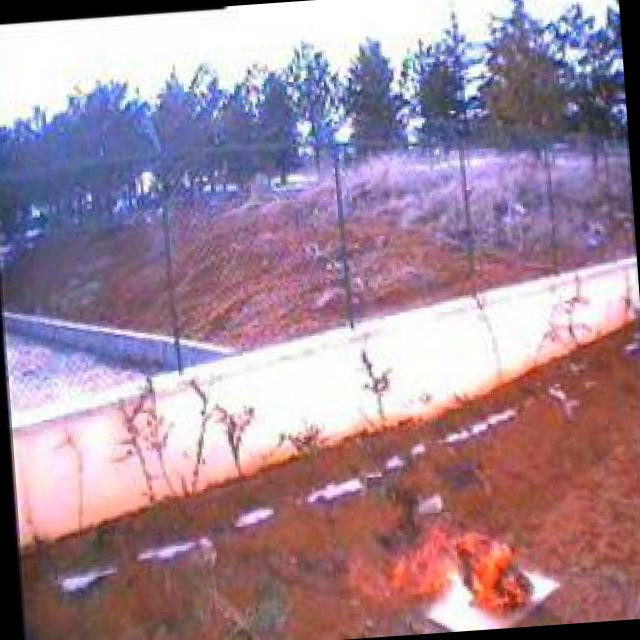Fire: (368, 512, 538, 628)
